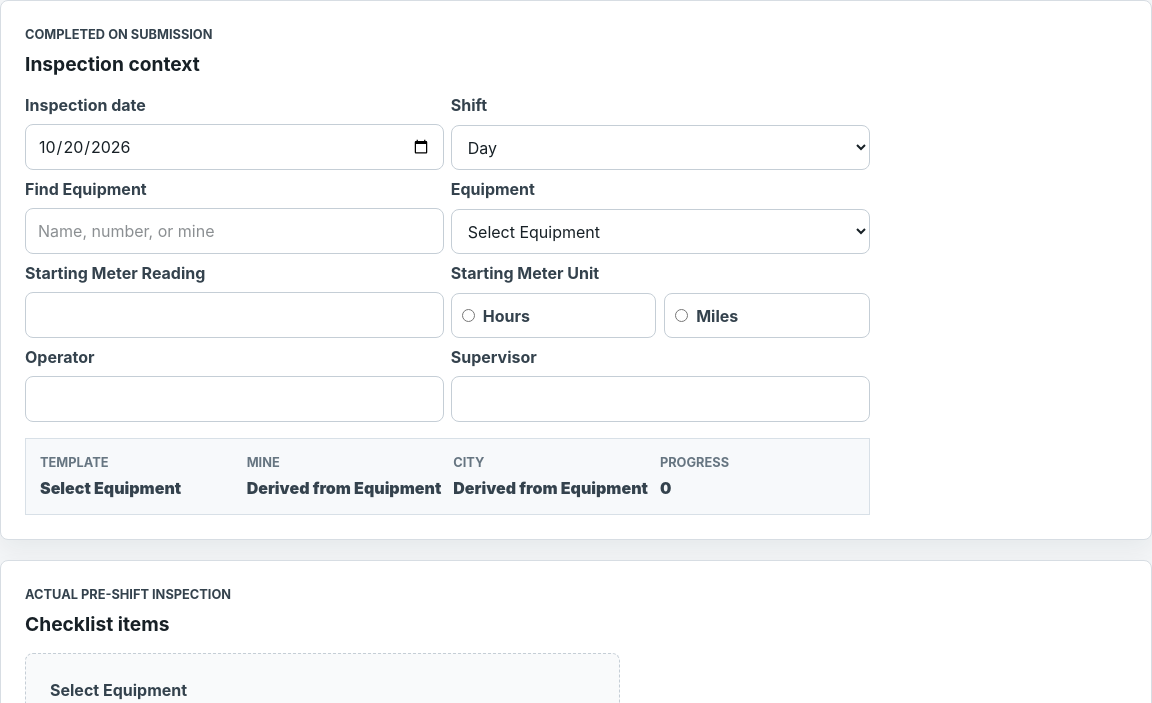
Test: OperationalSafetyChecklistForm › warns and requires explicit confirmation for the dragline-1 known-category mismatch
Select "Dragline 1 #DL-1 (Mine A)" in the dropdown labelled "Equipment". click: (660, 232)
box: x1=451 y1=209 x2=870 y2=254
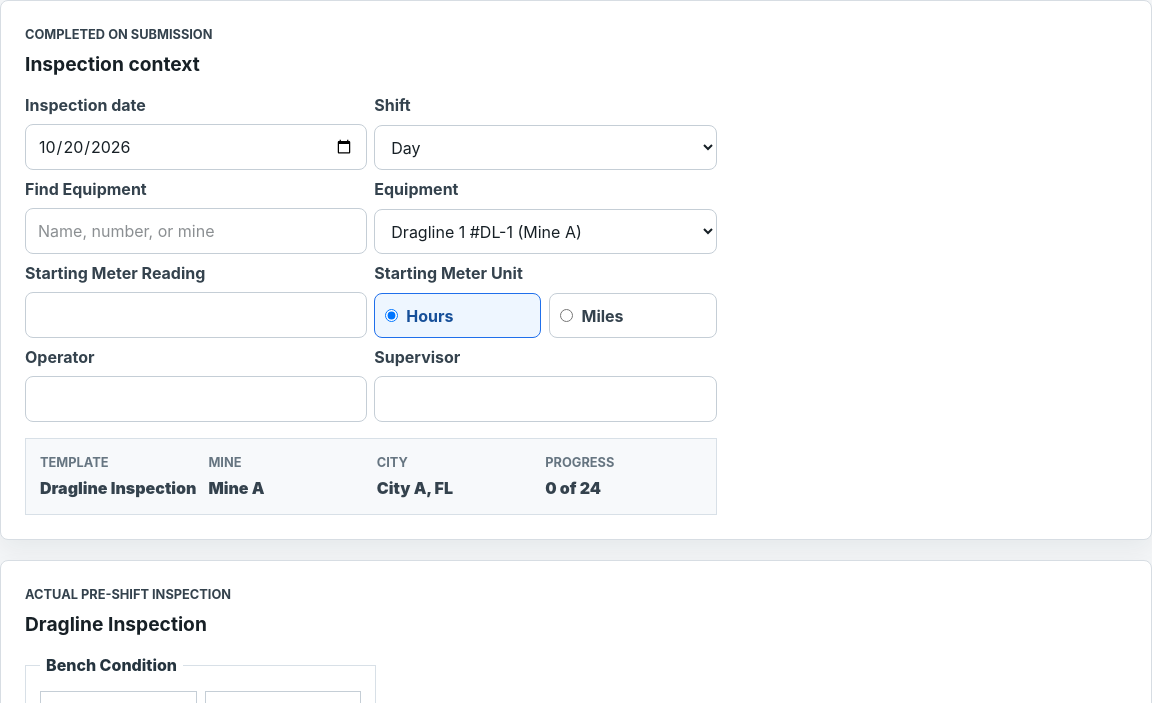
Click the radio button labelled "Miles". click: click(567, 316)
box: x1=560 y1=309 x2=574 y2=322
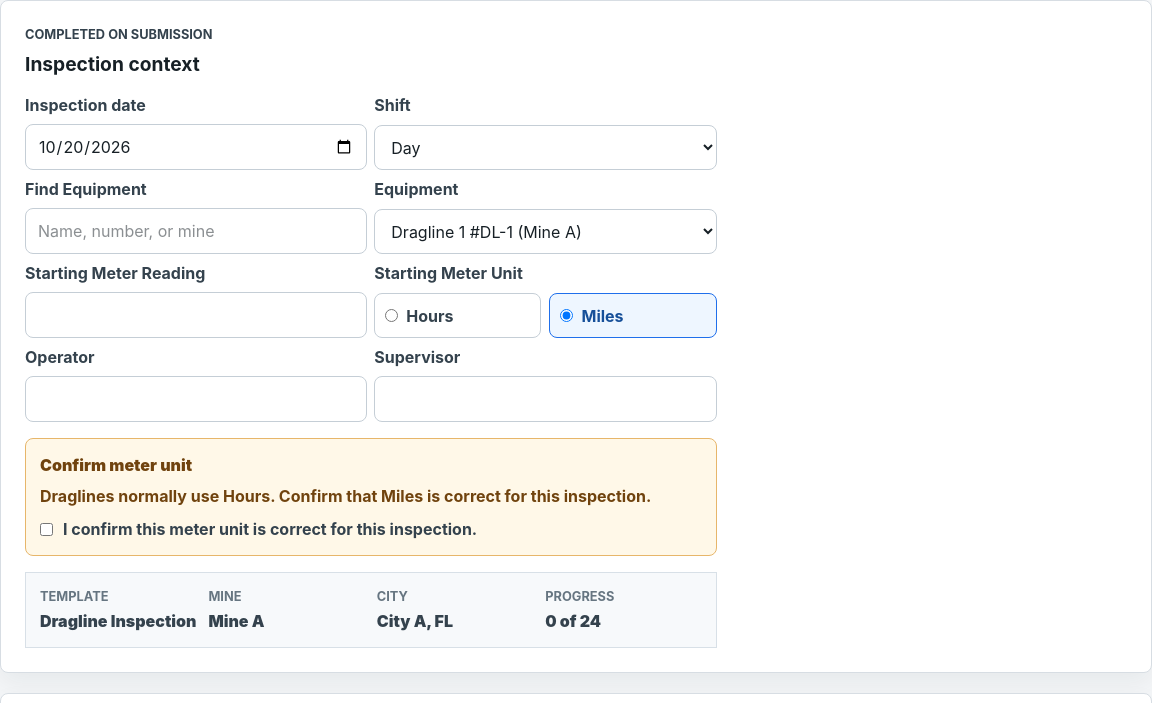
Result: the message shows "Draglines normally use Hours. Confirm that Miles is correct for this inspection." at x1=40 y1=486 x2=651 y2=506
Result: the checkbox labelled "I confirm this meter unit is correct for this inspection." is not checked
Click the checkbox labelled "I confirm this meter unit is correct for this inspection.". click: click(46, 529)
box: x1=40 y1=522 x2=53 y2=536
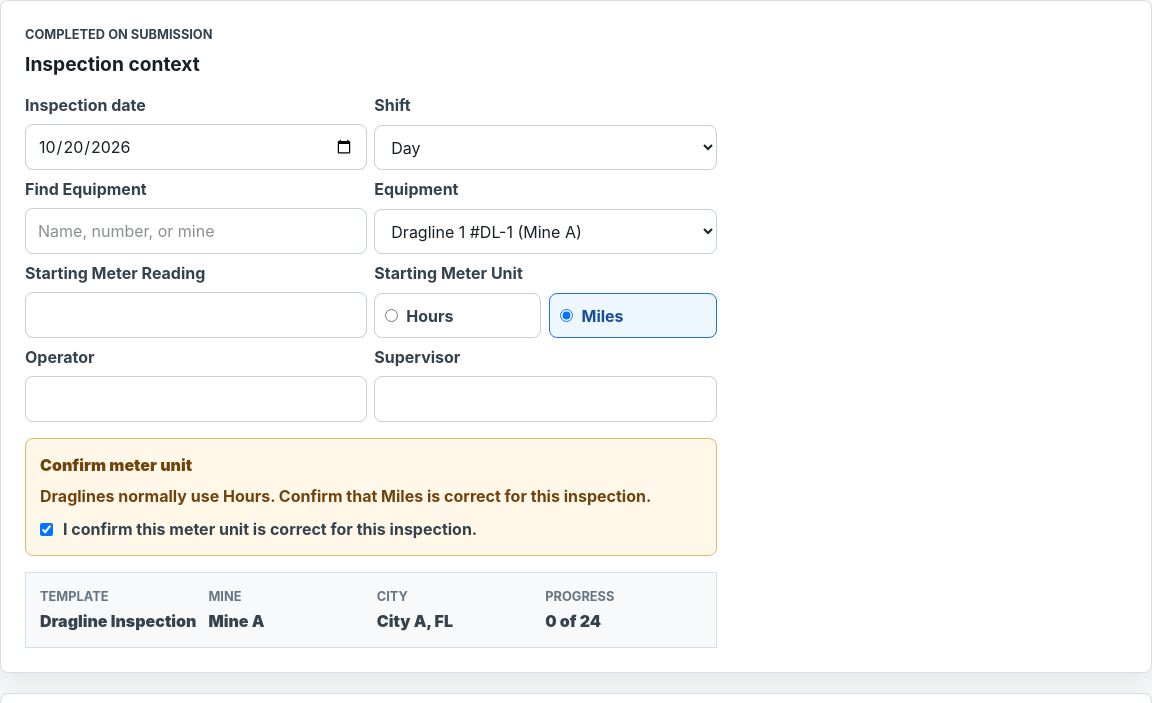
Result: the checkbox labelled "I confirm this meter unit is correct for this inspection." is checked at x1=40 y1=522 x2=53 y2=536
Click the radio button labelled "Hours". click: click(392, 316)
box: x1=385 y1=309 x2=398 y2=322
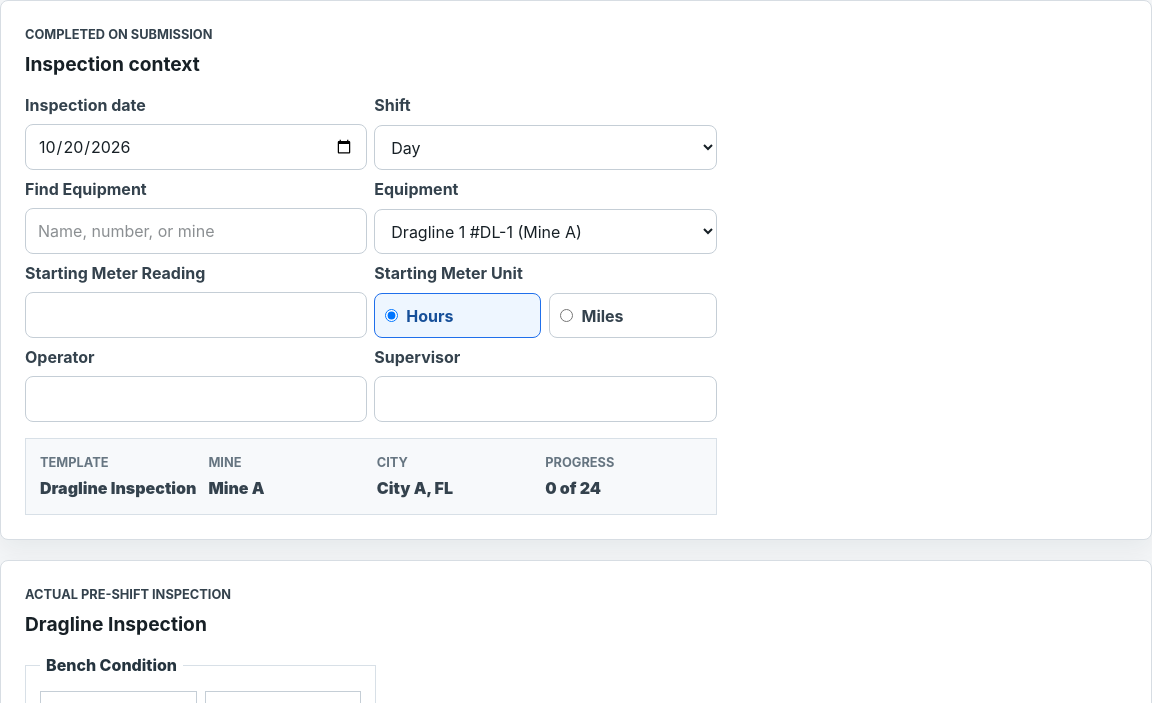
Result: the text "I confirm" is gone
